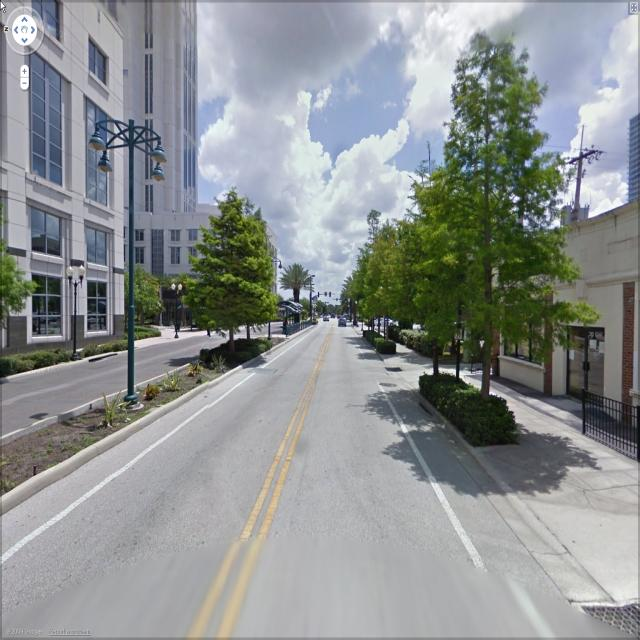b_1: (4, 1, 134, 333), (627, 108, 639, 182)
b_2: (125, 1, 274, 326), (487, 229, 640, 434)
